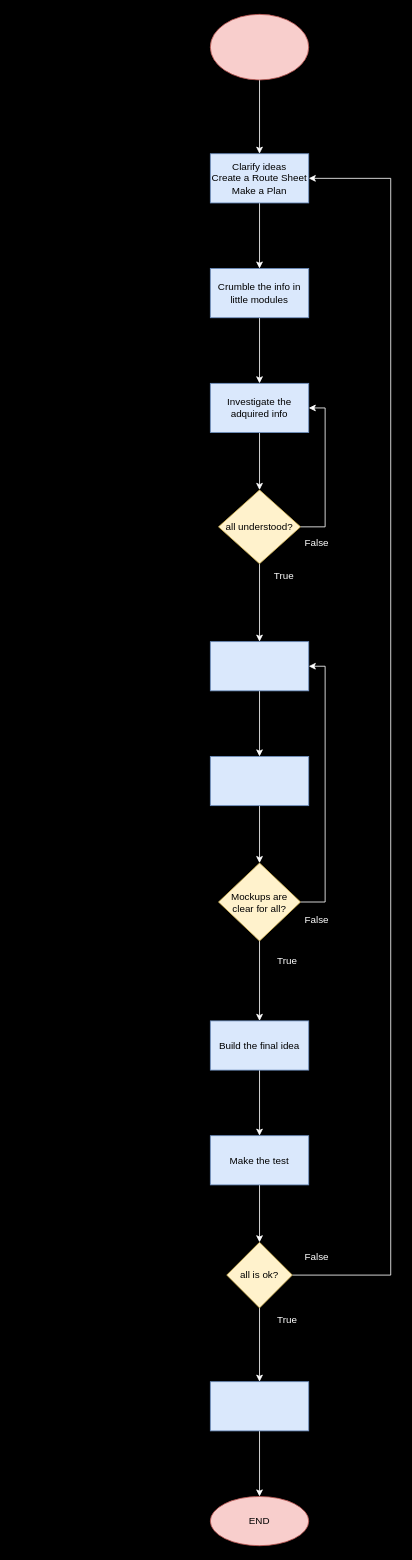
Image size: 412x1560. Some labels were removed from this diagram. The shapes that lost their labels are listed below. From the top down, each one's box as (x1, y1, x2, y2) in pixels, then its label:
(210, 14, 309, 80): START
(210, 641, 309, 691): Build mockups as backup
(210, 756, 309, 806): Ask the team and show your work
(210, 1381, 309, 1431): WORK DONE!
